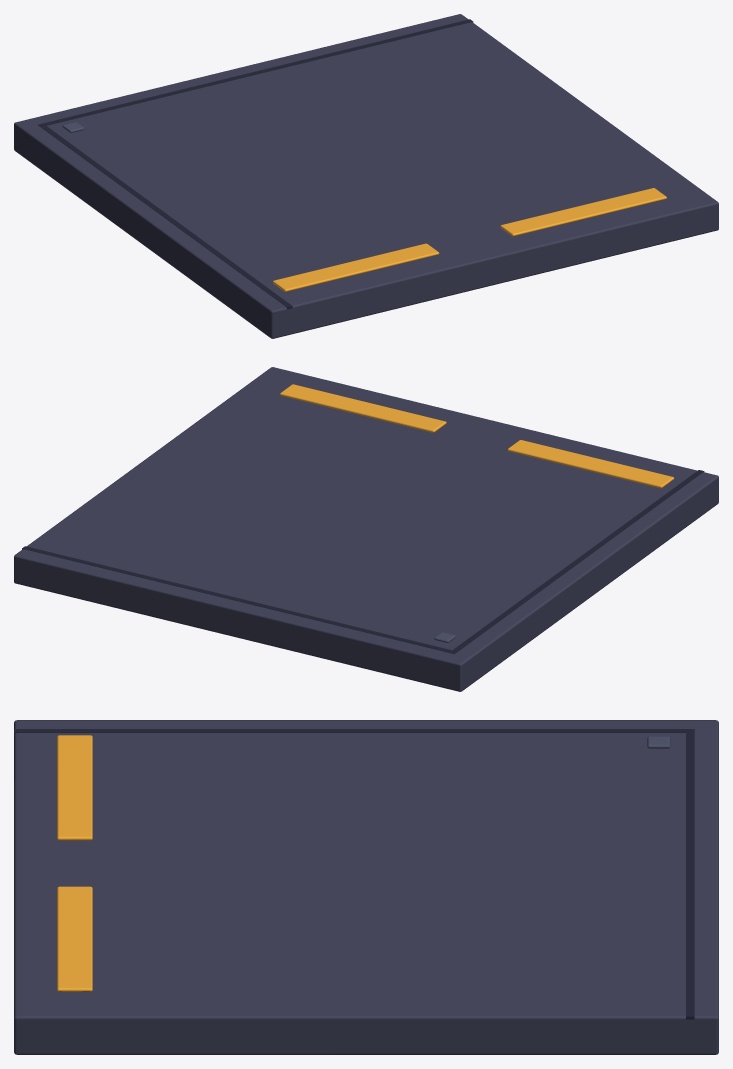
Rendered from floor.plate.WN+hzd.glb.
3 renders of one model, top to bottom at view 1: azimuth 30°, elevation 25°; view 2: azimuth 150°, elevation 25°; view 3: azimuth 270°, elevation 25°, orthographic. The views are drawn at different scales.
Visible parts, largest first — view 1: floor.plate.WN+hzd; view 2: floor.plate.WN+hzd; view 3: floor.plate.WN+hzd.
Part boxes in pixels (bbox=[...]): floor.plate.WN+hzd: bbox=[14, 14, 718, 338]; floor.plate.WN+hzd: bbox=[14, 367, 718, 691]; floor.plate.WN+hzd: bbox=[14, 720, 718, 1054].
Bounding box in the file's own units: 0.984 × 0.066 × 0.984.
